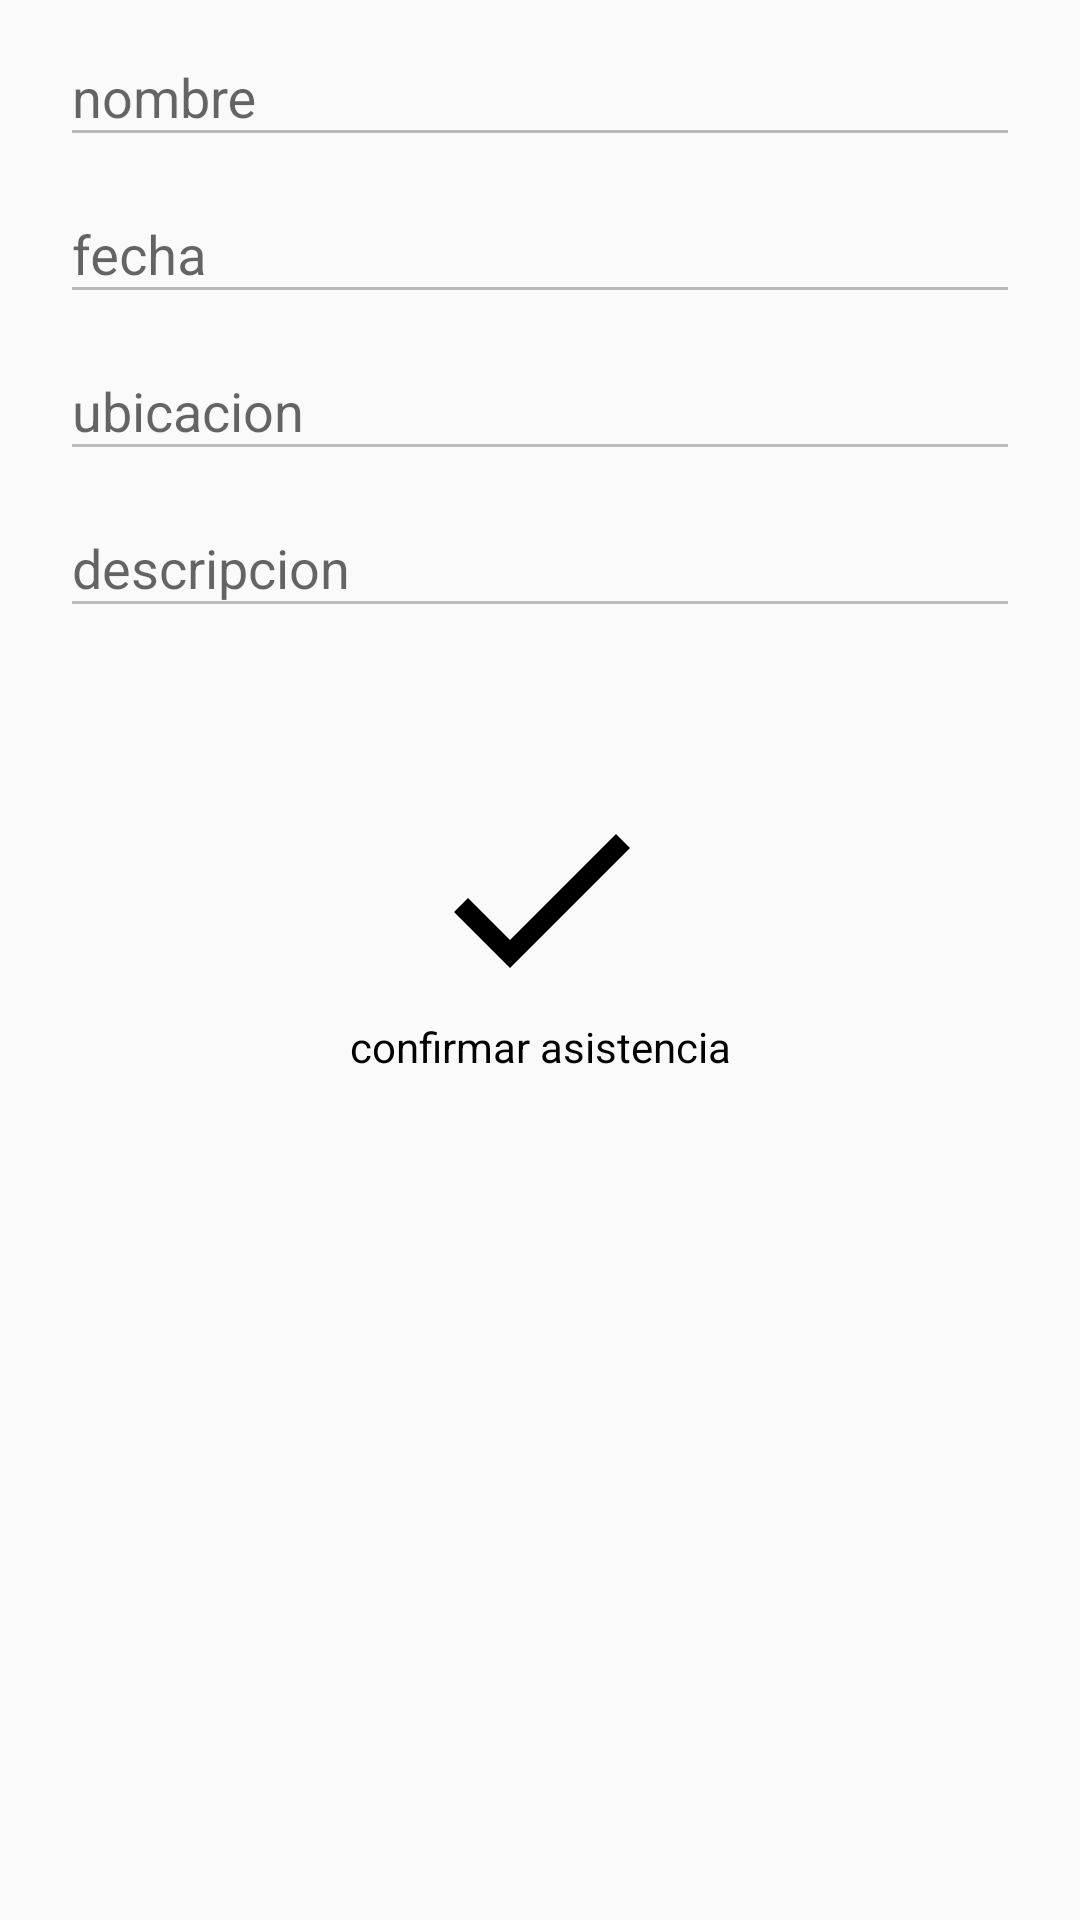

Locate icon controls on the screen. Image size 1080 x 1920, boxes as [x1=x1, y1=y1, x2=x2, y2=y2].
hecho: [x1=454, y1=834, x2=630, y2=968]
